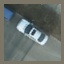car: (16, 18, 48, 46)
